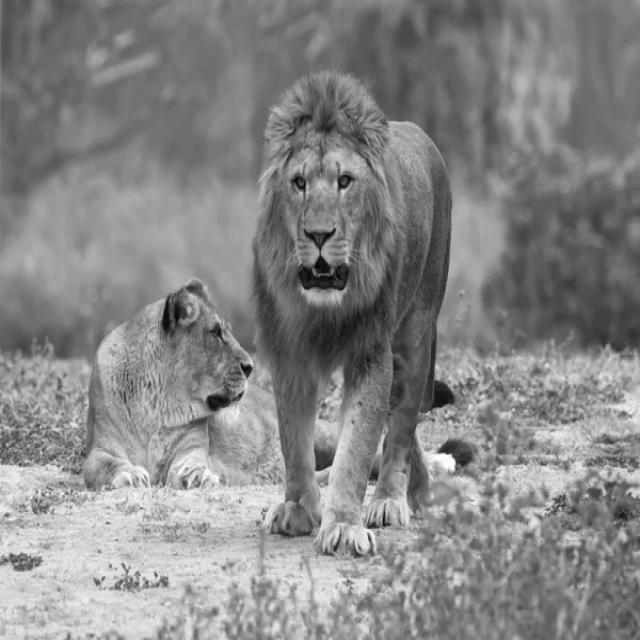Animal: (253, 71, 452, 555), (84, 279, 285, 490)
